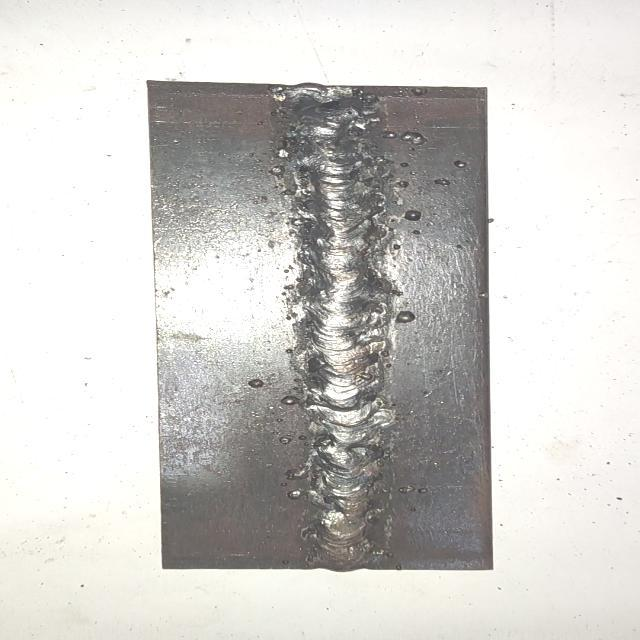Defect: (278, 88, 392, 176)
Welding Line: (297, 92, 381, 564)
Workpiece: (142, 78, 496, 572)
